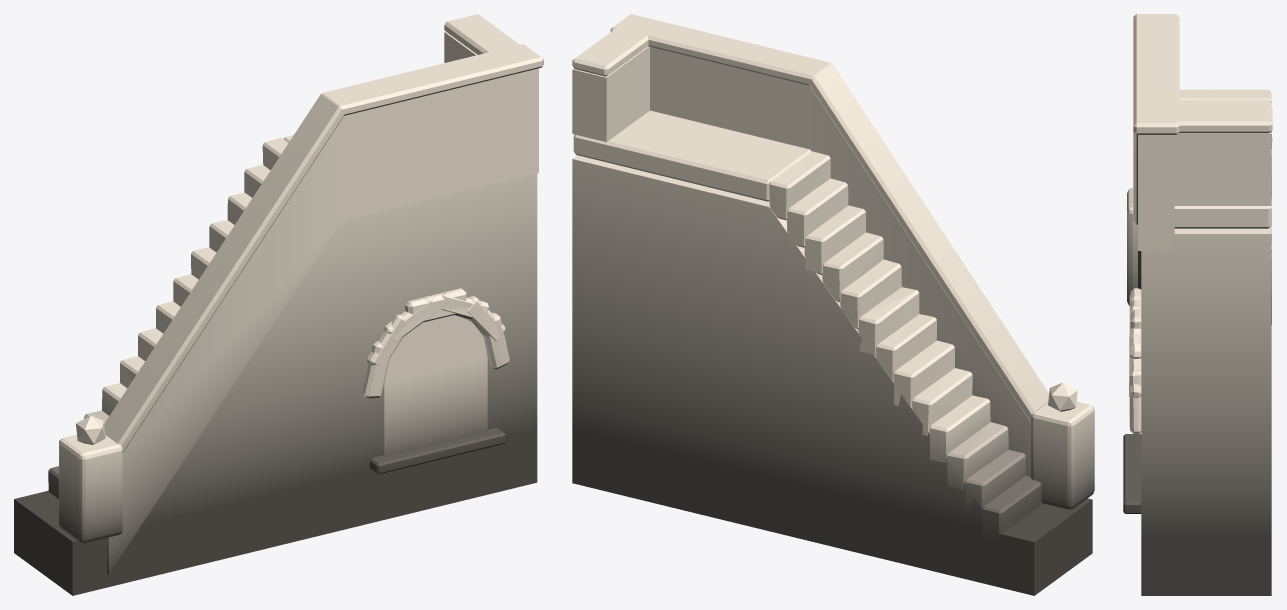
File: SM_VK_Stair_Stone_Ext.fbx
3 views of the same model, side by side, from view 1: azimuth 30°, elevation 25°; view 2: azimuth 150°, elevation 25°; view 3: azimuth 270°, elevation 25° (orthographic). The views are drawn at different scales.
Visible parts, largest first — view 1: SM_VK_Stair_Stone_Ext.001; view 2: SM_VK_Stair_Stone_Ext.001; view 3: SM_VK_Stair_Stone_Ext.001.
Part boxes in pixels (bbox=[...]): SM_VK_Stair_Stone_Ext.001: bbox=[14, 14, 543, 595]; SM_VK_Stair_Stone_Ext.001: bbox=[572, 14, 1094, 595]; SM_VK_Stair_Stone_Ext.001: bbox=[1123, 14, 1272, 595].
Bounding box in the file's own units: 5.45 × 4.74 × 1.36.
